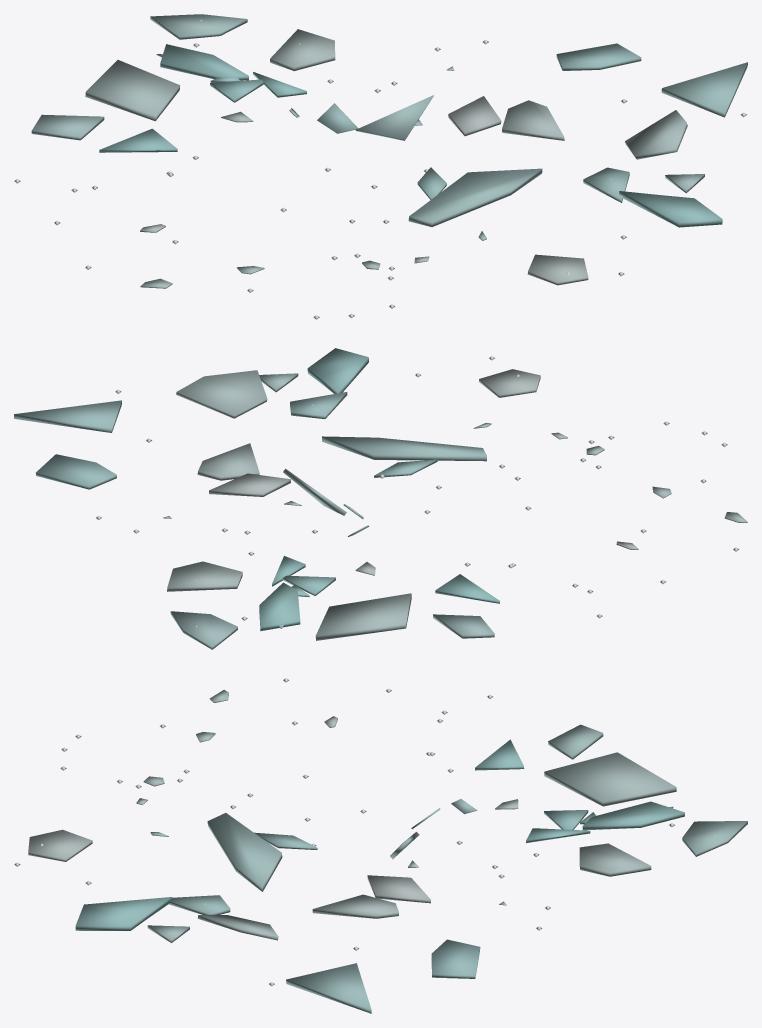
The model's file is glass_shards.glb.
3 views of the same model, one above another, from view 1: azimuth 30°, elevation 25°; view 2: azimuth 150°, elevation 25°; view 3: azimuth 270°, elevation 25° (orthographic). The views are drawn at different scales.
Visible parts, largest first — view 1: glass_shards; view 2: glass_shards; view 3: glass_shards.
Part boxes in pixels (box(x1,y1,x2,y2)): glass_shards: box(14, 14, 747, 319); glass_shards: box(14, 348, 747, 649); glass_shards: box(14, 678, 747, 1013).
Size of what is drawn, in the model's own units: 1.63 by 0.078 by 1.52.
